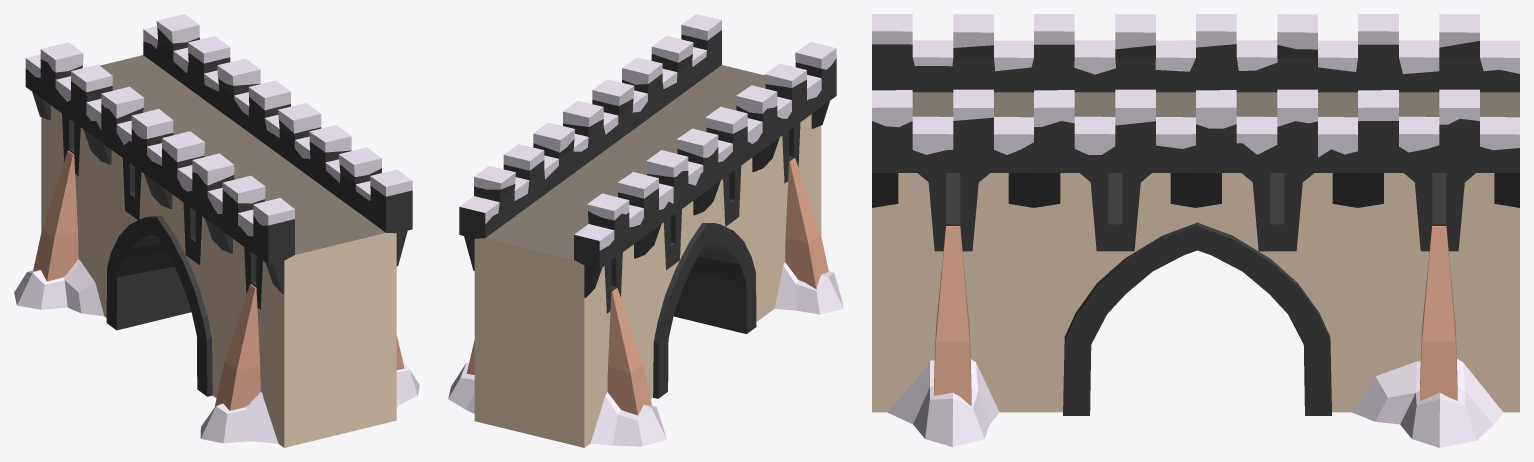
The model's file is winter_castle_wall1.glb.
The picture shows the model from 3 angles, left to right: view 1: azimuth 30°, elevation 25°; view 2: azimuth 150°, elevation 25°; view 3: azimuth 270°, elevation 25°; orthographic projection. The views are drawn at different scales.
Visible parts, largest first — view 1: Wall1_Medieval_0; view 2: Wall1_Medieval_0; view 3: Wall1_Medieval_0.
Part boxes in pixels (<box>): Wall1_Medieval_0: <box>14,14,419,447</box>; Wall1_Medieval_0: <box>448,14,843,447</box>; Wall1_Medieval_0: <box>872,14,1519,447</box>.
Bounding box in the file's own units: 4.22 × 4.29 × 8.
1 material, 1 textured.
